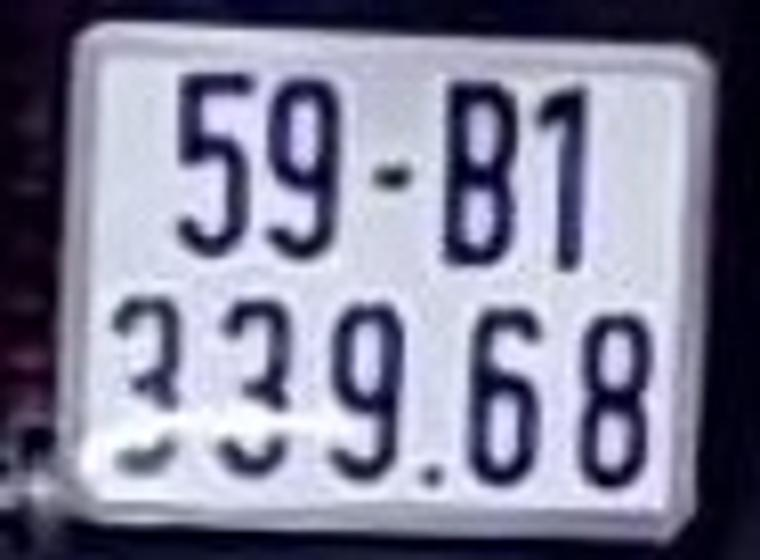-: (370, 157, 414, 194)
.: (421, 462, 449, 487)
1: (532, 82, 598, 274)
3: (210, 297, 295, 481), (108, 292, 188, 471)
5: (170, 67, 254, 259)
6: (463, 302, 548, 490)
8: (578, 311, 654, 488)
9: (322, 303, 409, 483), (263, 74, 338, 260)
B: (438, 74, 526, 269)
